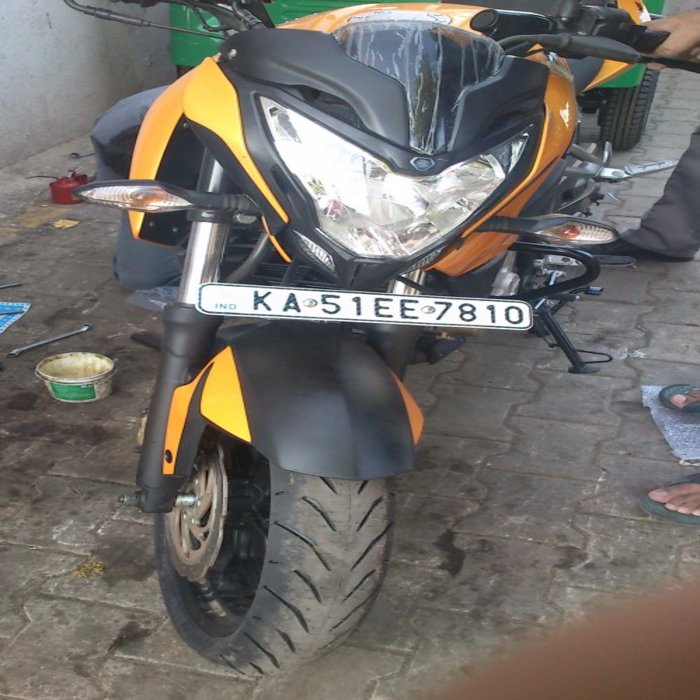n: (195, 284, 530, 328)
